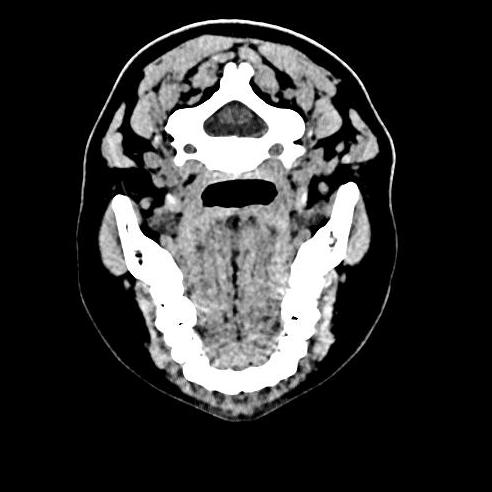Normal_Brain: (1, 6, 462, 492)
